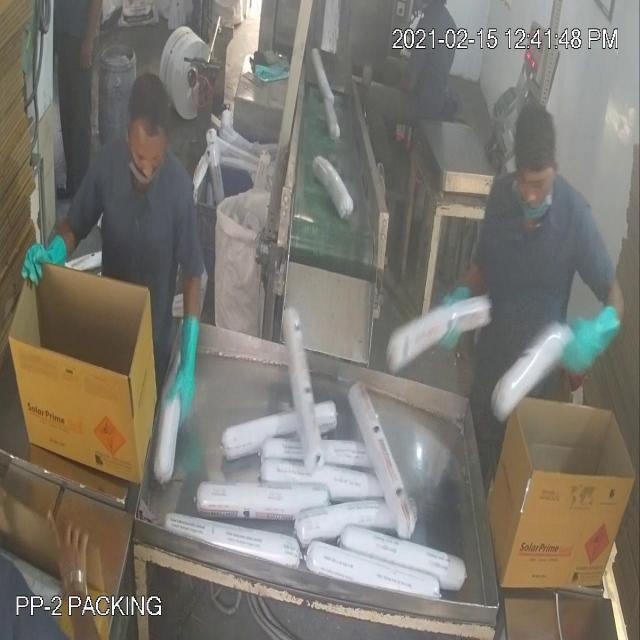No_Gloves: (28, 45, 590, 572)
